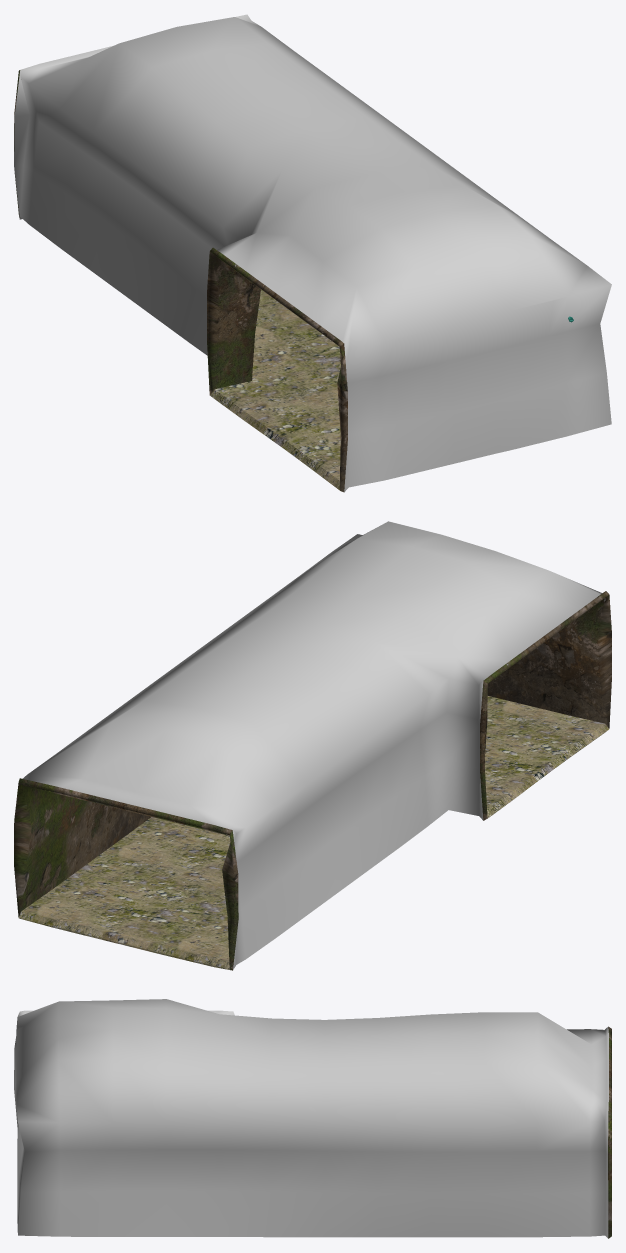
File: passage_lower_east.obj
3 renders of one model, top to bottom at view 1: azimuth 30°, elevation 25°; view 2: azimuth 150°, elevation 25°; view 3: azimuth 270°, elevation 25°, orthographic. The views are drawn at different scales.
Parts seen in each view (by area): view 1: Passage_lower_east; view 2: Passage_lower_east; view 3: Passage_lower_east.
Boxes of the visible parts, x1,y1,x2,y2 form: Passage_lower_east: (14,14,611,492); Passage_lower_east: (14,521,611,970); Passage_lower_east: (14,999,611,1238).
Size of the model in its own units: 468 by 331 by 1084.
